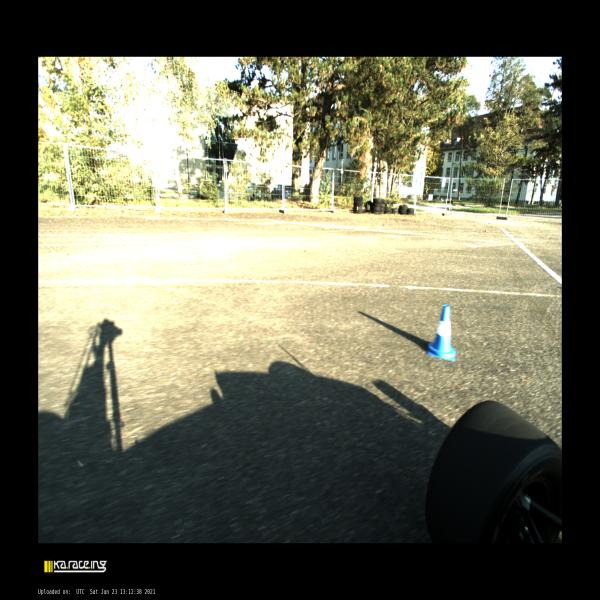blue_cone: (426, 304, 456, 362)
